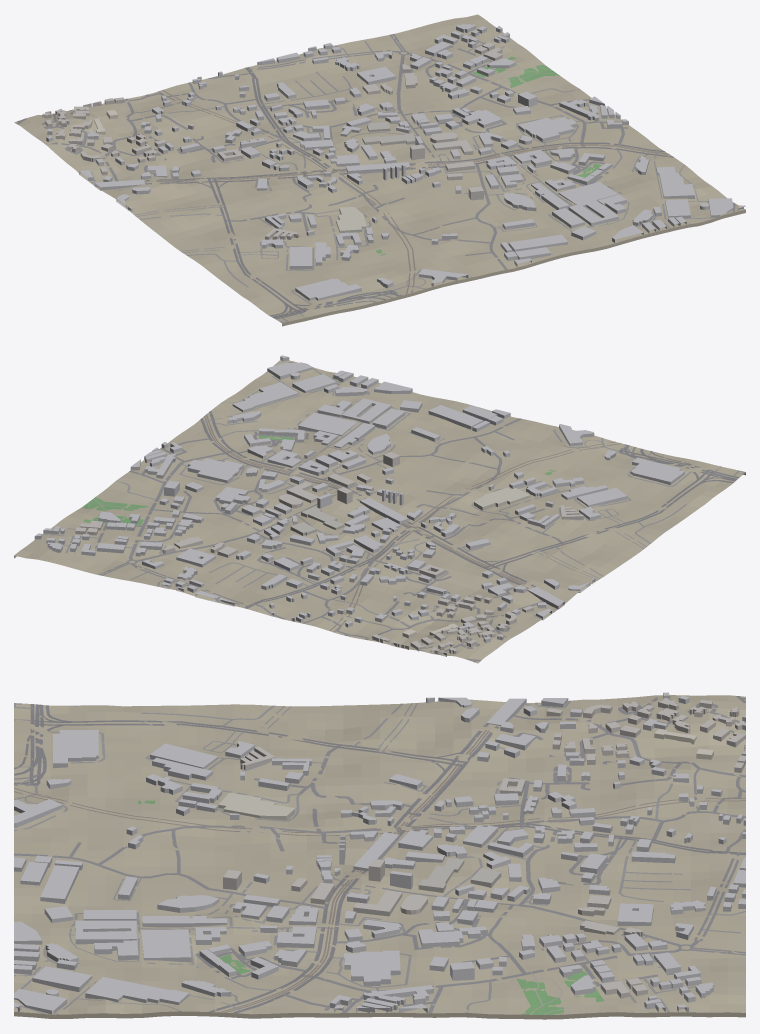
File: context.glb
The picture shows the model from 3 angles, top to bottom: view 1: azimuth 30°, elevation 25°; view 2: azimuth 150°, elevation 25°; view 3: azimuth 270°, elevation 25°; orthographic projection. The views are drawn at different scales.
Visible parts, largest first — view 1: Terrain, OSM_Buildings, OSM_Roads_Street, OSM_Roads_Service, OSM_Roads_Primary, OSM_Roads_Rail, OSM_Green; view 2: Terrain, OSM_Buildings, OSM_Roads_Street, OSM_Roads_Service, OSM_Roads_Primary, OSM_Roads_Rail, OSM_Green; view 3: Terrain, OSM_Buildings, OSM_Roads_Street, OSM_Roads_Service, OSM_Roads_Primary, OSM_Roads_Rail, OSM_Green.
Part boxes in pixels (x1=…): Terrain: x1=14, y1=14, x2=745, y2=326; OSM_Buildings: x1=42, y1=24, x2=745, y2=300; OSM_Roads_Street: x1=16, y1=34, x2=627, y2=298; OSM_Roads_Service: x1=78, y1=34, x2=735, y2=323; OSM_Roads_Primary: x1=95, y1=67, x2=673, y2=319; OSM_Roads_Rail: x1=97, y1=90, x2=669, y2=294; OSM_Green: x1=375, y1=56, x2=601, y2=255; Terrain: x1=14, y1=360, x2=745, y2=663; OSM_Buildings: x1=34, y1=355, x2=684, y2=656; OSM_Roads_Street: x1=95, y1=418, x2=635, y2=662; OSM_Roads_Service: x1=42, y1=361, x2=745, y2=619; OSM_Roads_Primary: x1=200, y1=411, x2=739, y2=608; OSM_Roads_Rail: x1=204, y1=414, x2=621, y2=632; OSM_Green: x1=83, y1=435, x2=555, y2=525; Terrain: x1=14, y1=695, x2=745, y2=1019; OSM_Buildings: x1=14, y1=692, x2=745, y2=1014; OSM_Roads_Street: x1=14, y1=696, x2=745, y2=1013; OSM_Roads_Service: x1=14, y1=700, x2=745, y2=1014; OSM_Roads_Primary: x1=14, y1=704, x2=745, y2=1013; OSM_Roads_Rail: x1=14, y1=724, x2=745, y2=1012; OSM_Green: x1=138, y1=800, x2=604, y2=1014.
Bounding box in the file's own units: 1200 × 46.74 × 1200.
